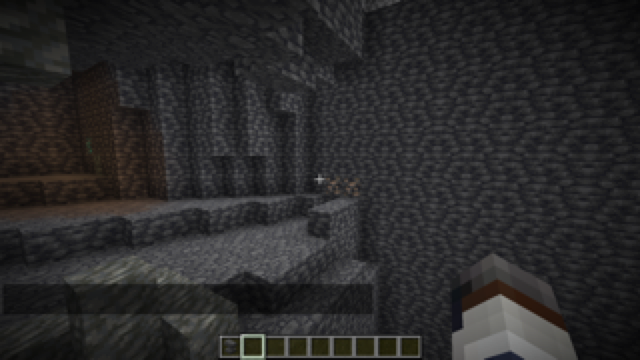iron: (320, 174, 364, 200)
